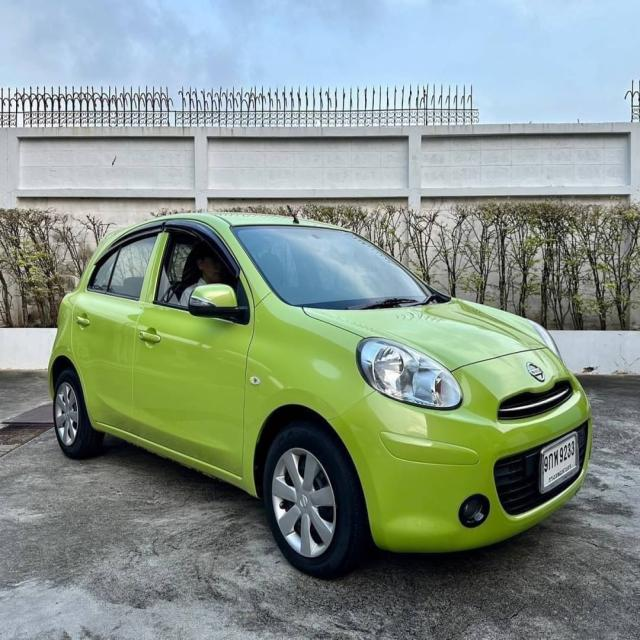license_plate: (537, 428, 583, 494)
